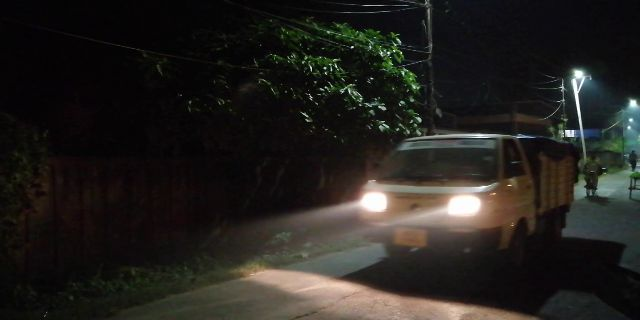Minitruck: (355, 130, 580, 260)
